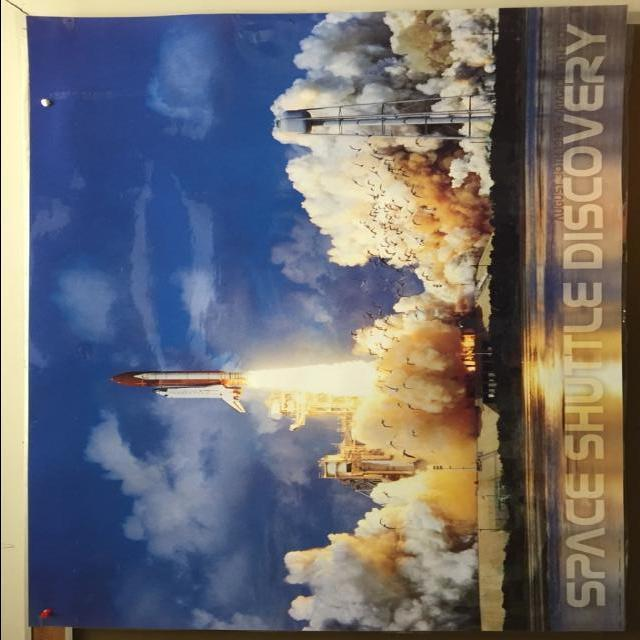missile: (155, 387, 241, 403), (131, 370, 240, 382)
